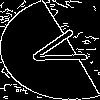V: (25, 25, 100, 74)
